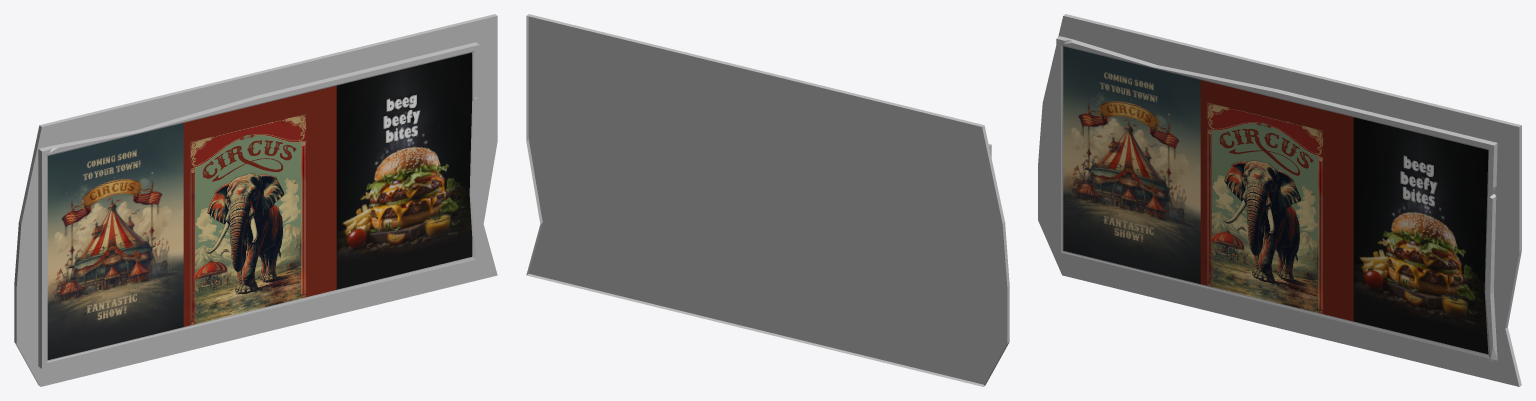
The model's file is SM_Banner_02.fbx.
3 views of the same model, side by side, from view 1: azimuth 30°, elevation 25°; view 2: azimuth 150°, elevation 25°; view 3: azimuth 330°, elevation 25° (orthographic).
Parts seen in each view (by area): view 1: SM_Banner_02; view 2: SM_Banner_02; view 3: SM_Banner_02.
Boxes of the visible parts, x1=… form: SM_Banner_02: x1=14, y1=14, x2=497, y2=386; SM_Banner_02: x1=526, y1=14, x2=1009, y2=386; SM_Banner_02: x1=1038, y1=14, x2=1521, y2=386.
Bounding box in the file's own units: 387 × 200 × 8.45.
